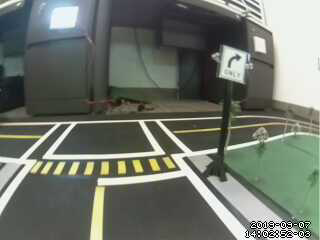Right_only_sign: (218, 43, 246, 85)
